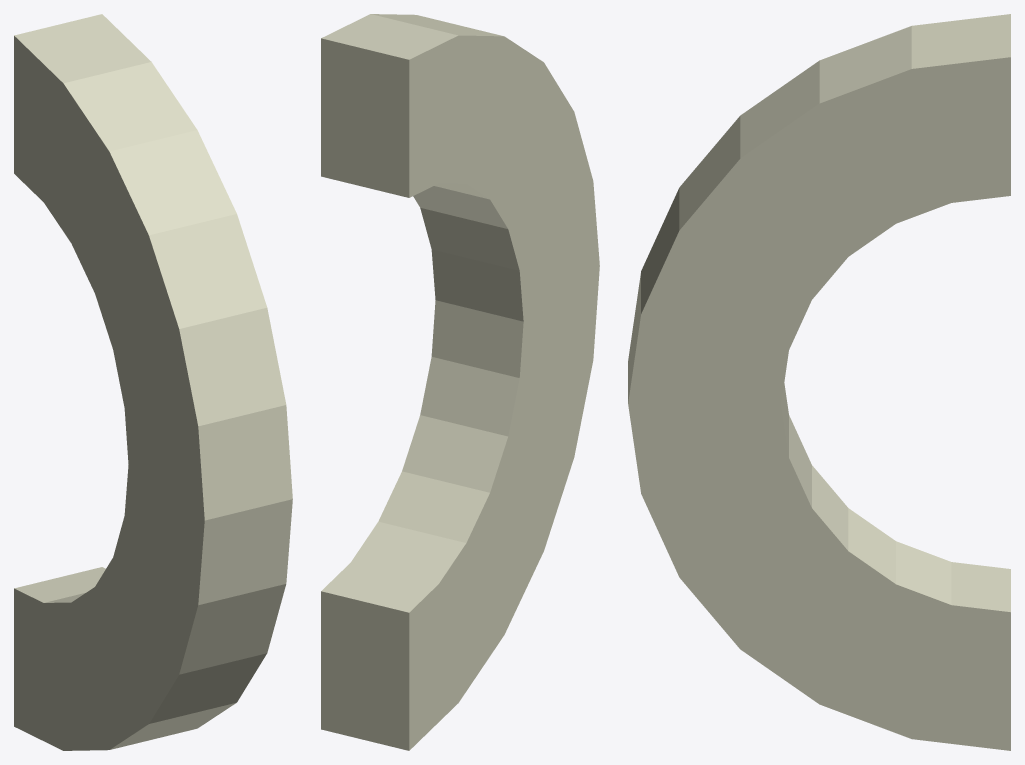
Rendered from section_093.obj.
3 views of the same model, side by side, from view 1: azimuth 30°, elevation 25°; view 2: azimuth 150°, elevation 25°; view 3: azimuth 270°, elevation 25° (orthographic).
Bounding box in the file's own units: 1.33 × 10 × 5.
